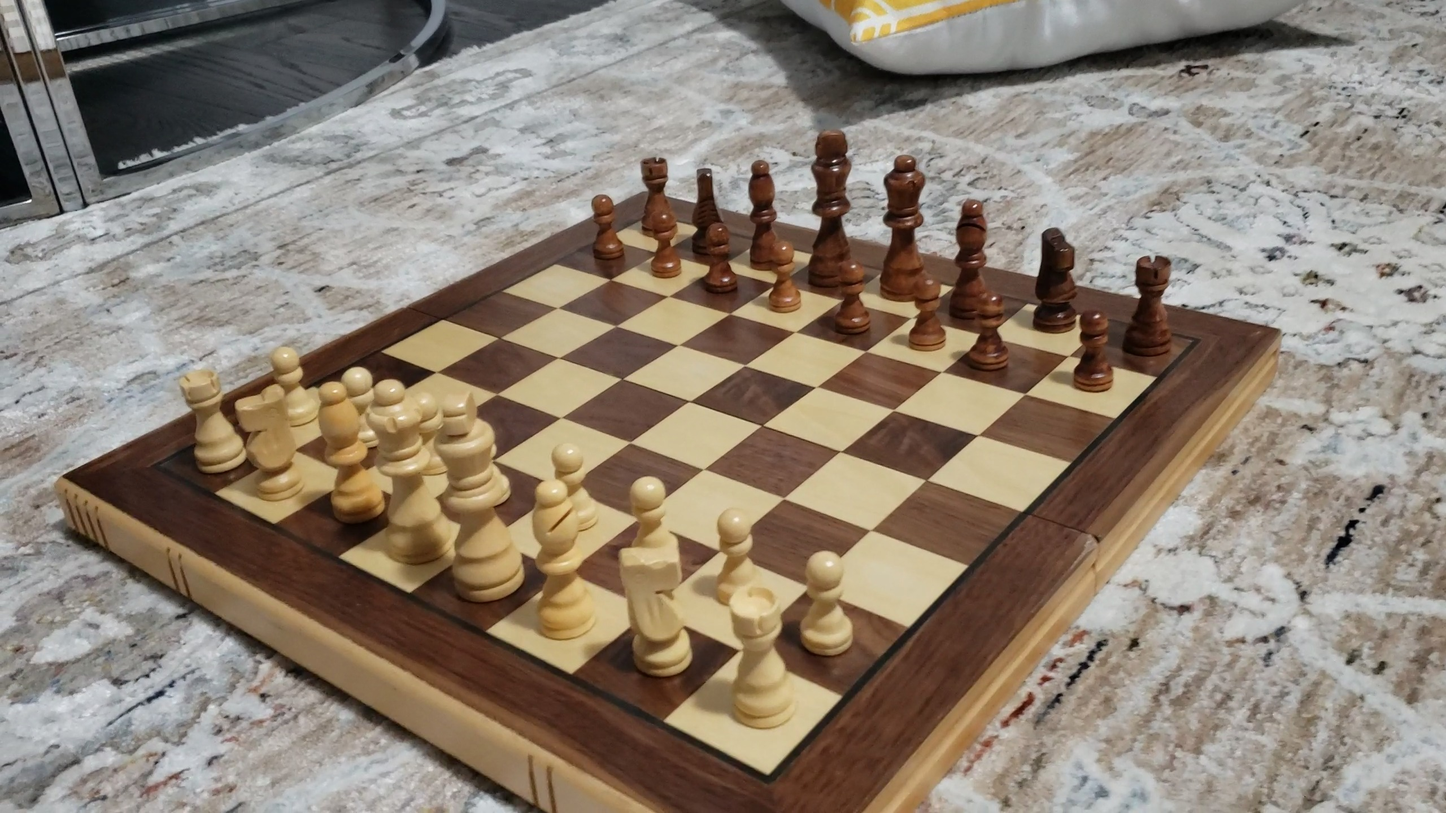black-bishop: (951, 196, 1000, 318), (748, 157, 785, 269)
black-king: (808, 126, 856, 287)
black-knight: (1033, 226, 1078, 330), (692, 164, 729, 257)
black-pawn: (1072, 309, 1113, 393), (969, 292, 1008, 371), (834, 260, 871, 336), (702, 219, 738, 295), (910, 279, 947, 352), (647, 209, 682, 282), (590, 191, 625, 263), (769, 241, 803, 315)
black-queen: (877, 149, 925, 304)
black-rook: (1123, 253, 1174, 358), (638, 154, 674, 236)
white-bishop: (526, 479, 599, 643), (314, 382, 386, 526)
white-king: (427, 388, 526, 605)
white-knight: (615, 543, 698, 682), (230, 376, 309, 503)
white-pawn: (791, 545, 860, 663), (263, 332, 323, 428), (546, 439, 603, 534), (709, 498, 761, 593), (623, 467, 679, 550)
white-queen: (367, 397, 452, 569)
white-rook: (722, 585, 802, 732), (176, 365, 247, 479)
